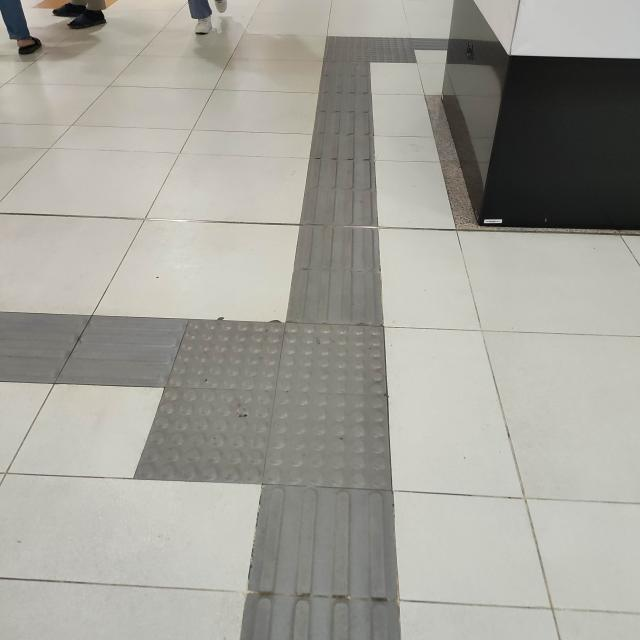kanan: (304, 15, 441, 86)
